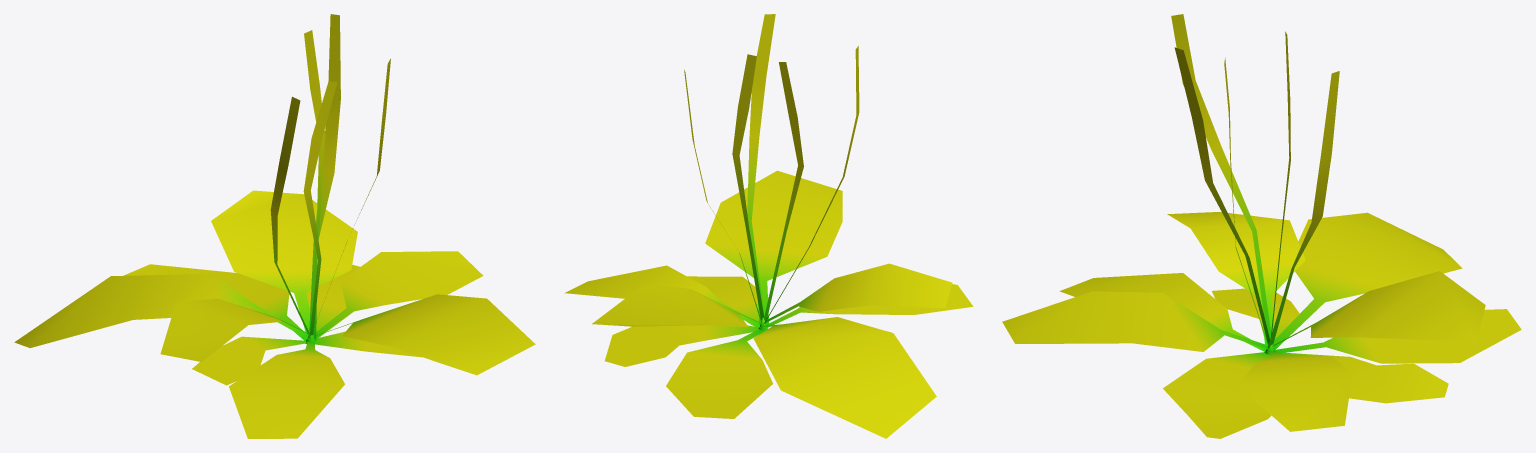
File: Broadleaf Plantain_LOD2_Var2_sfhjc.fbx
3 views of the same model, side by side, from view 1: azimuth 30°, elevation 25°; view 2: azimuth 150°, elevation 25°; view 3: azimuth 270°, elevation 25° (orthographic). The views are drawn at different scales.
Visible parts, largest first — view 1: _269d_Var2_LOD2; view 2: _269d_Var2_LOD2; view 3: _269d_Var2_LOD2.
Part boxes in pixels (x1,y1,x2,y2): _269d_Var2_LOD2: (14,14,535,438); _269d_Var2_LOD2: (564,14,973,438); _269d_Var2_LOD2: (1002,14,1521,438).
Bounding box in the file's own units: 38.1 × 27.2 × 38.67.
